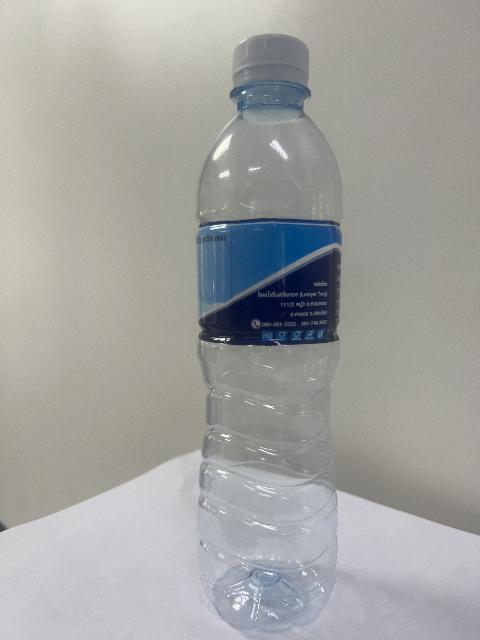bottle: (197, 34, 341, 631)
